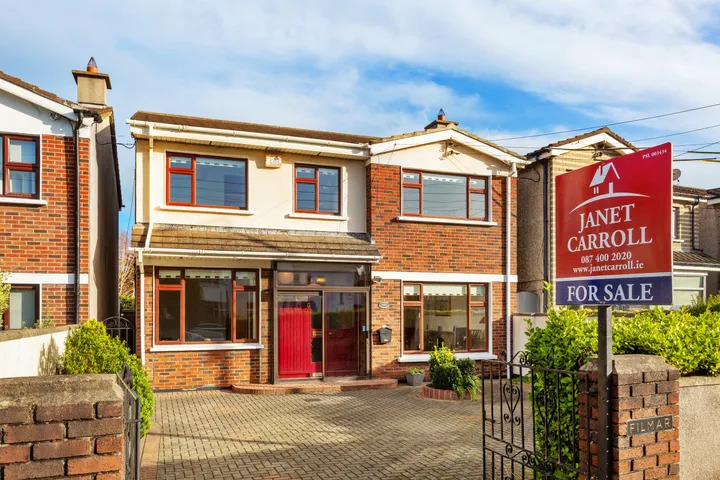property sign: (542, 140, 690, 319)
